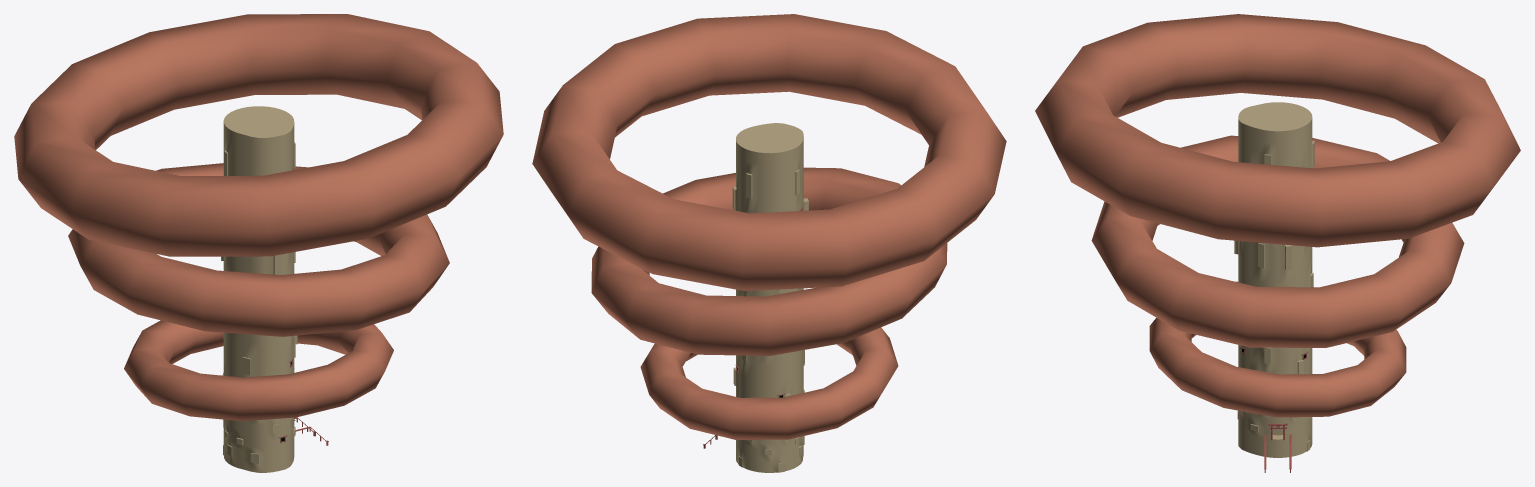
File: Torre_ottimizzata_no_catene.glb
The picture shows the model from 3 angles, left to right: view 1: azimuth 30°, elevation 25°; view 2: azimuth 150°, elevation 25°; view 3: azimuth 270°, elevation 25°; orthographic projection. The views are drawn at different scales.
Visible parts, largest first — view 1: Torus.002, Torus.001, levati, Cylinder; view 2: Torus.002, Torus.001, levati, Cylinder; view 3: Torus.002, Torus.001, levati, Cylinder.
Boxes of the visible parts, box(x1,y1,x2,y2) form: Torus.002: box(14, 14, 503, 256); Torus.001: box(68, 163, 449, 336); levati: box(124, 320, 393, 421); Cylinder: box(221, 106, 297, 472); Torus.002: box(532, 14, 1006, 290); Torus.001: box(591, 167, 947, 355); levati: box(640, 327, 898, 439); Cylinder: box(732, 123, 808, 472); Torus.002: box(1035, 14, 1520, 247); Torus.001: box(1091, 135, 1464, 347); levati: box(1149, 281, 1406, 417); Cylinder: box(1234, 102, 1314, 457).
Bounding box in the file's own units: 40.87 × 34.12 × 41.51.
